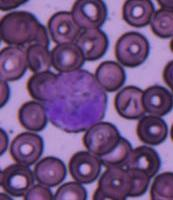E: (42, 69, 106, 132)
